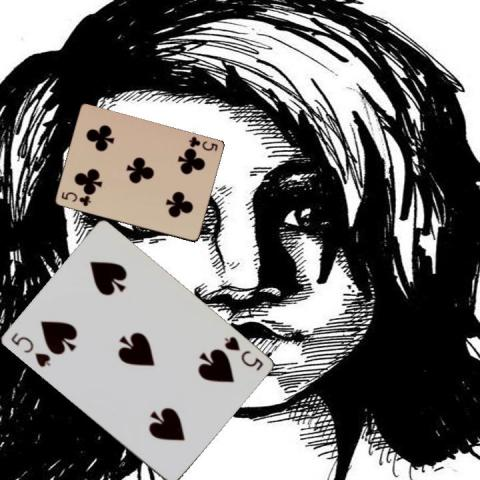5c: (185, 133, 219, 153), (58, 189, 92, 208)
5s: (7, 329, 52, 369), (221, 333, 264, 373)
